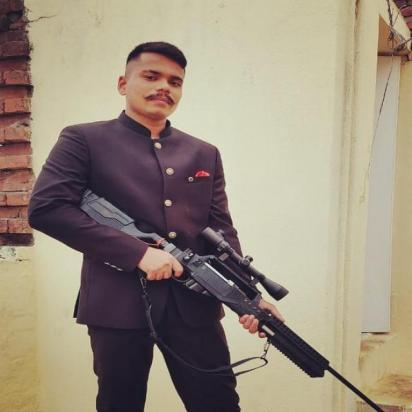Gun: (73, 186, 385, 411)
